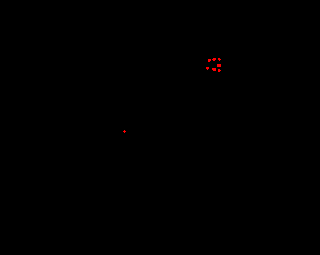Target: (212, 58, 216, 61), (217, 64, 221, 67), (212, 68, 216, 71), (218, 58, 221, 61), (208, 59, 211, 62), (206, 67, 209, 70), (218, 69, 221, 72), (123, 130, 126, 133)
